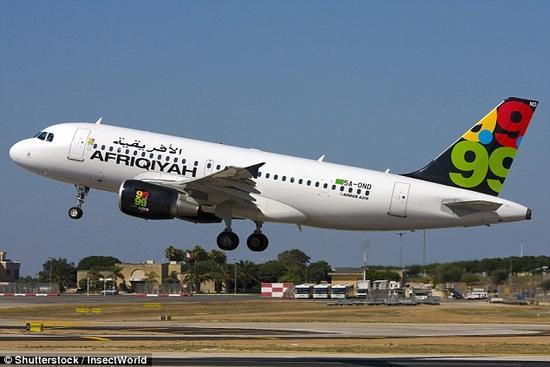airplane: (9, 96, 543, 246)
